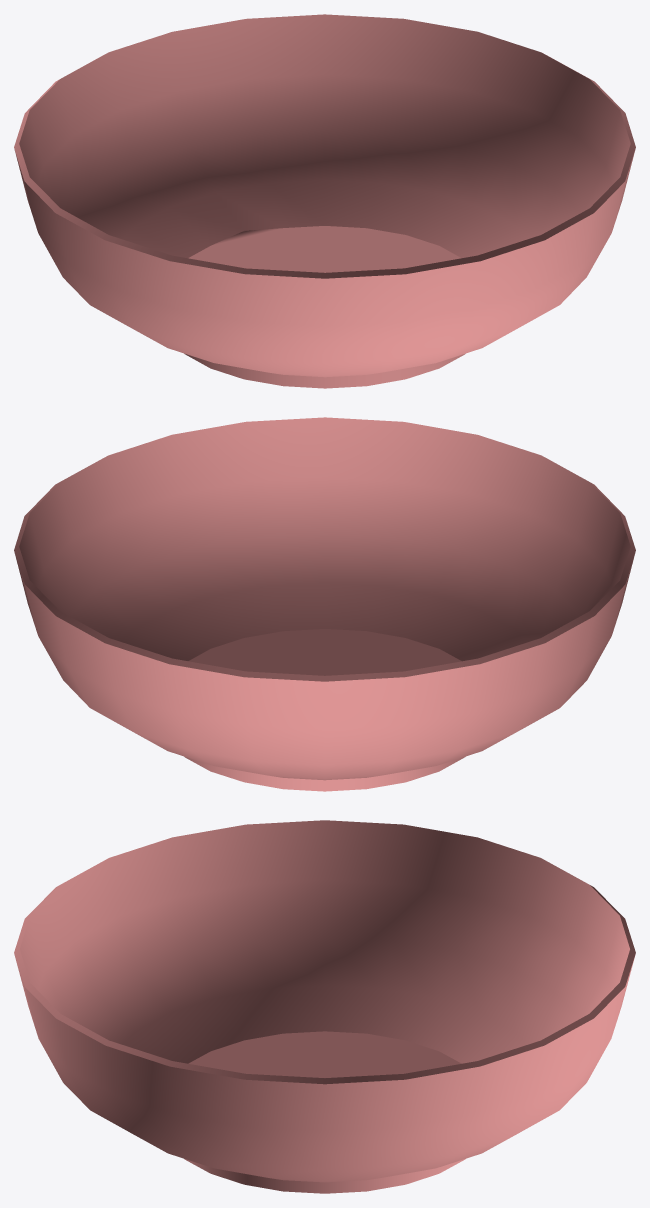
File: shattered_bowl.fbx
The picture shows the model from 3 angles, top to bottom: view 1: azimuth 30°, elevation 25°; view 2: azimuth 150°, elevation 25°; view 3: azimuth 270°, elevation 25°; orthographic projection.
Parts seen in each view (by area): view 1: TFYK_bowl_high_poly.007; view 2: TFYK_bowl_high_poly.007; view 3: TFYK_bowl_high_poly.007.
Part boxes in pixels (x1,y1,x2,y2): TFYK_bowl_high_poly.007: (14,14,635,388); TFYK_bowl_high_poly.007: (14,417,635,791); TFYK_bowl_high_poly.007: (14,820,635,1193).
Size of the model in its own units: 13.94 by 4.36 by 13.94.
